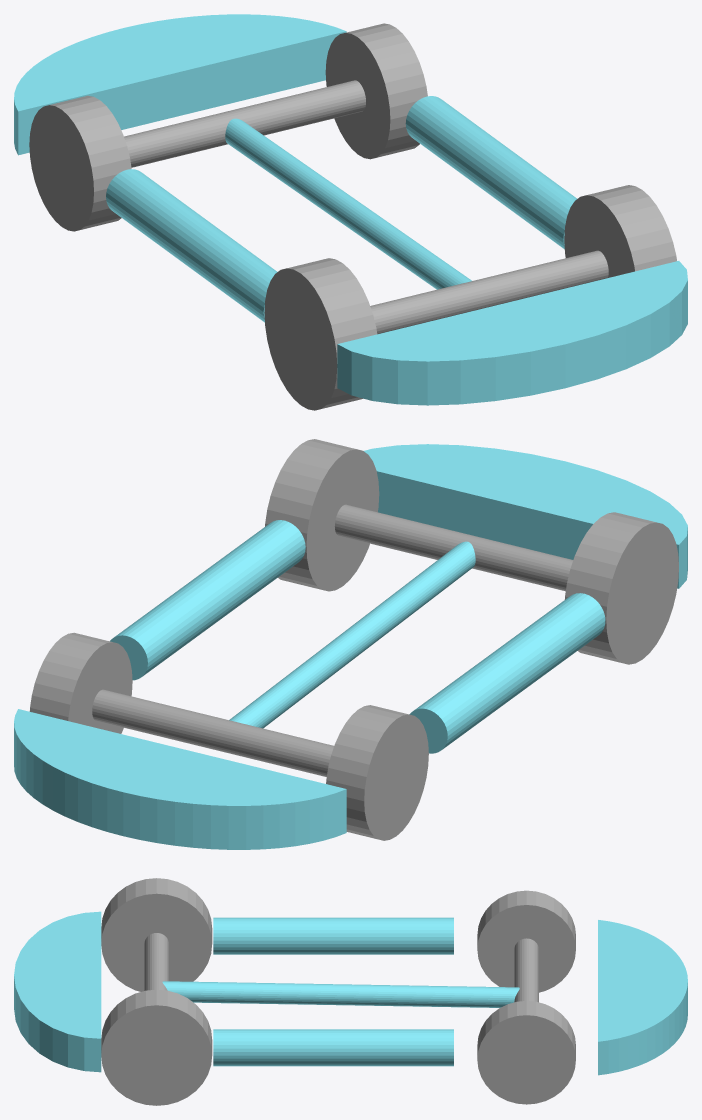
File: carro_V3.1.fbx
3 renders of one model, top to bottom at view 1: azimuth 30°, elevation 25°; view 2: azimuth 150°, elevation 25°; view 3: azimuth 270°, elevation 25°, orthographic. The views are drawn at different scales.
Parts seen in each view (by area): view 1: estrutura_a_volta, rodas frente, rodas tras, eixo meio; view 2: estrutura_a_volta, rodas tras, rodas frente, eixo meio; view 3: estrutura_a_volta, rodas tras, rodas frente, eixo meio.
Boxes of the visible parts, bbox=[...] form: estrutura_a_volta: bbox=[14, 14, 687, 405]; rodas frente: bbox=[29, 23, 427, 231]; rodas tras: bbox=[264, 185, 676, 410]; eixo meio: bbox=[225, 118, 471, 289]; estrutura_a_volta: bbox=[14, 444, 687, 849]; rodas tras: bbox=[265, 439, 678, 664]; rodas frente: bbox=[29, 632, 428, 840]; eixo meio: bbox=[229, 541, 475, 728]; estrutura_a_volta: bbox=[14, 911, 687, 1075]; rodas tras: bbox=[101, 878, 212, 1105]; rodas frente: bbox=[477, 890, 575, 1104]; eixo meio: bbox=[162, 981, 519, 1007].
Size of the model in its own units: 488 by 180 by 1093.
